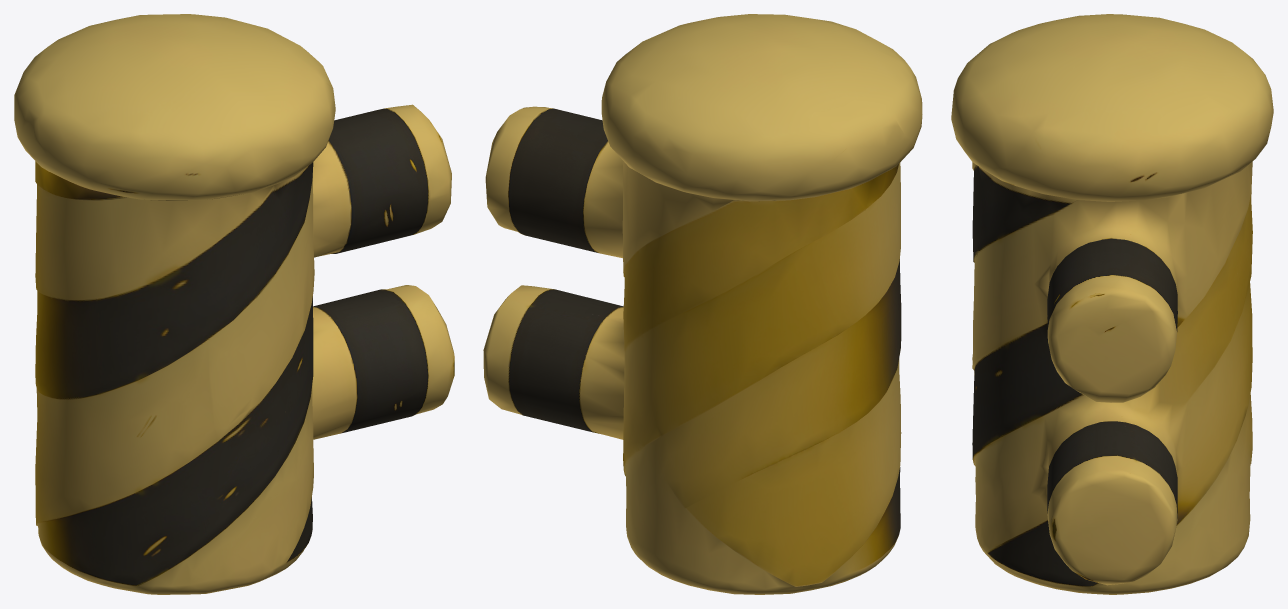
Rendered from barrier_end.fbx.
3 views of the same model, side by side, from view 1: azimuth 30°, elevation 25°; view 2: azimuth 150°, elevation 25°; view 3: azimuth 270°, elevation 25° (orthographic).
Parts seen in each view (by area): view 1: tripo_node_2887d37b; view 2: tripo_node_2887d37b; view 3: tripo_node_2887d37b.
Boxes of the visible parts, left/top/right/bottom form: tripo_node_2887d37b: left=14, top=14, right=454, bottom=594; tripo_node_2887d37b: left=483, top=14, right=922, bottom=594; tripo_node_2887d37b: left=951, top=14, right=1273, bottom=594.
Size of the model in its own units: 80.55 by 57.45 by 97.92.
1 material, 1 textured.
